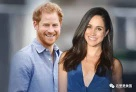female: (77, 7, 112, 53)
male: (31, 2, 67, 50)
